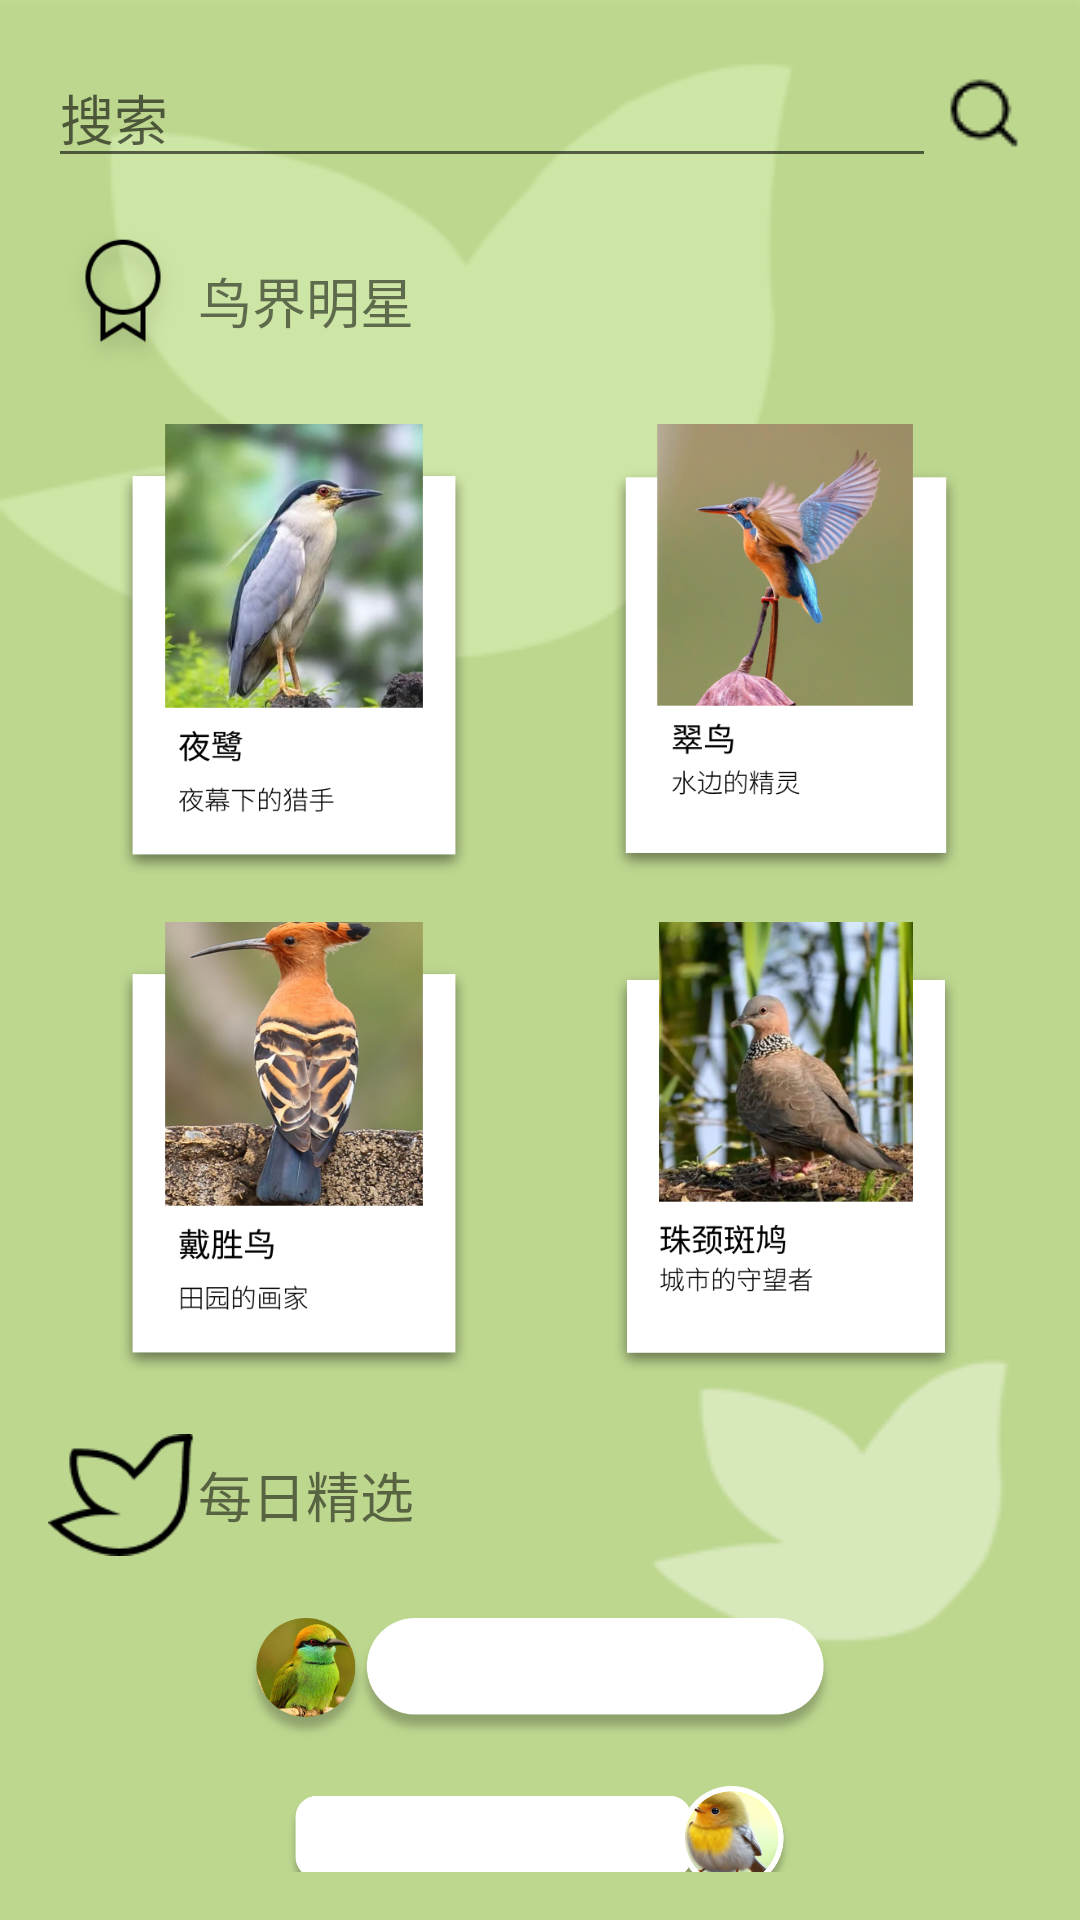

Icon bounding boxes for this 1080 × 1920 phone screenshot, format [x1=x1, y1=y1, x2=x2, y2=y2]:
search: [x1=950, y1=79, x2=1018, y2=147]
